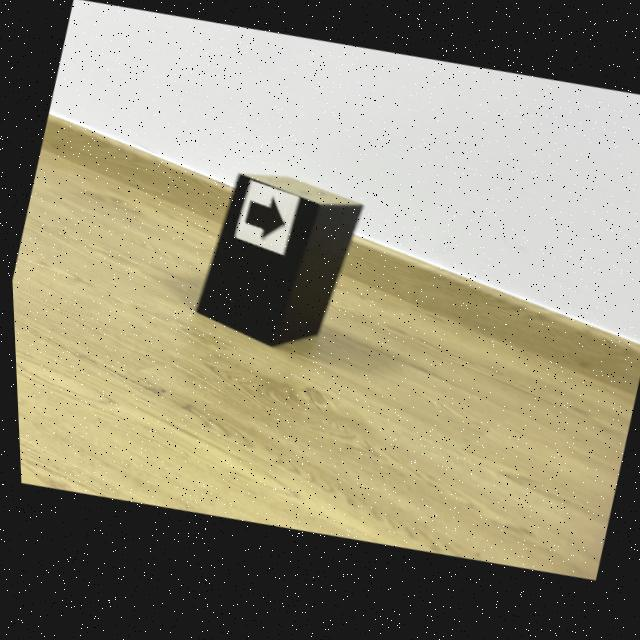RIGHT: (243, 204, 281, 242)
